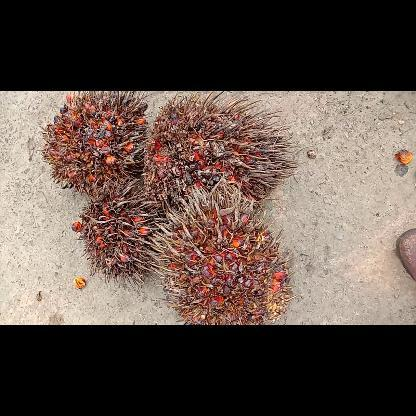Terlalu masak: (148, 178, 296, 324), (139, 91, 303, 215), (41, 90, 151, 198), (76, 175, 174, 291)
